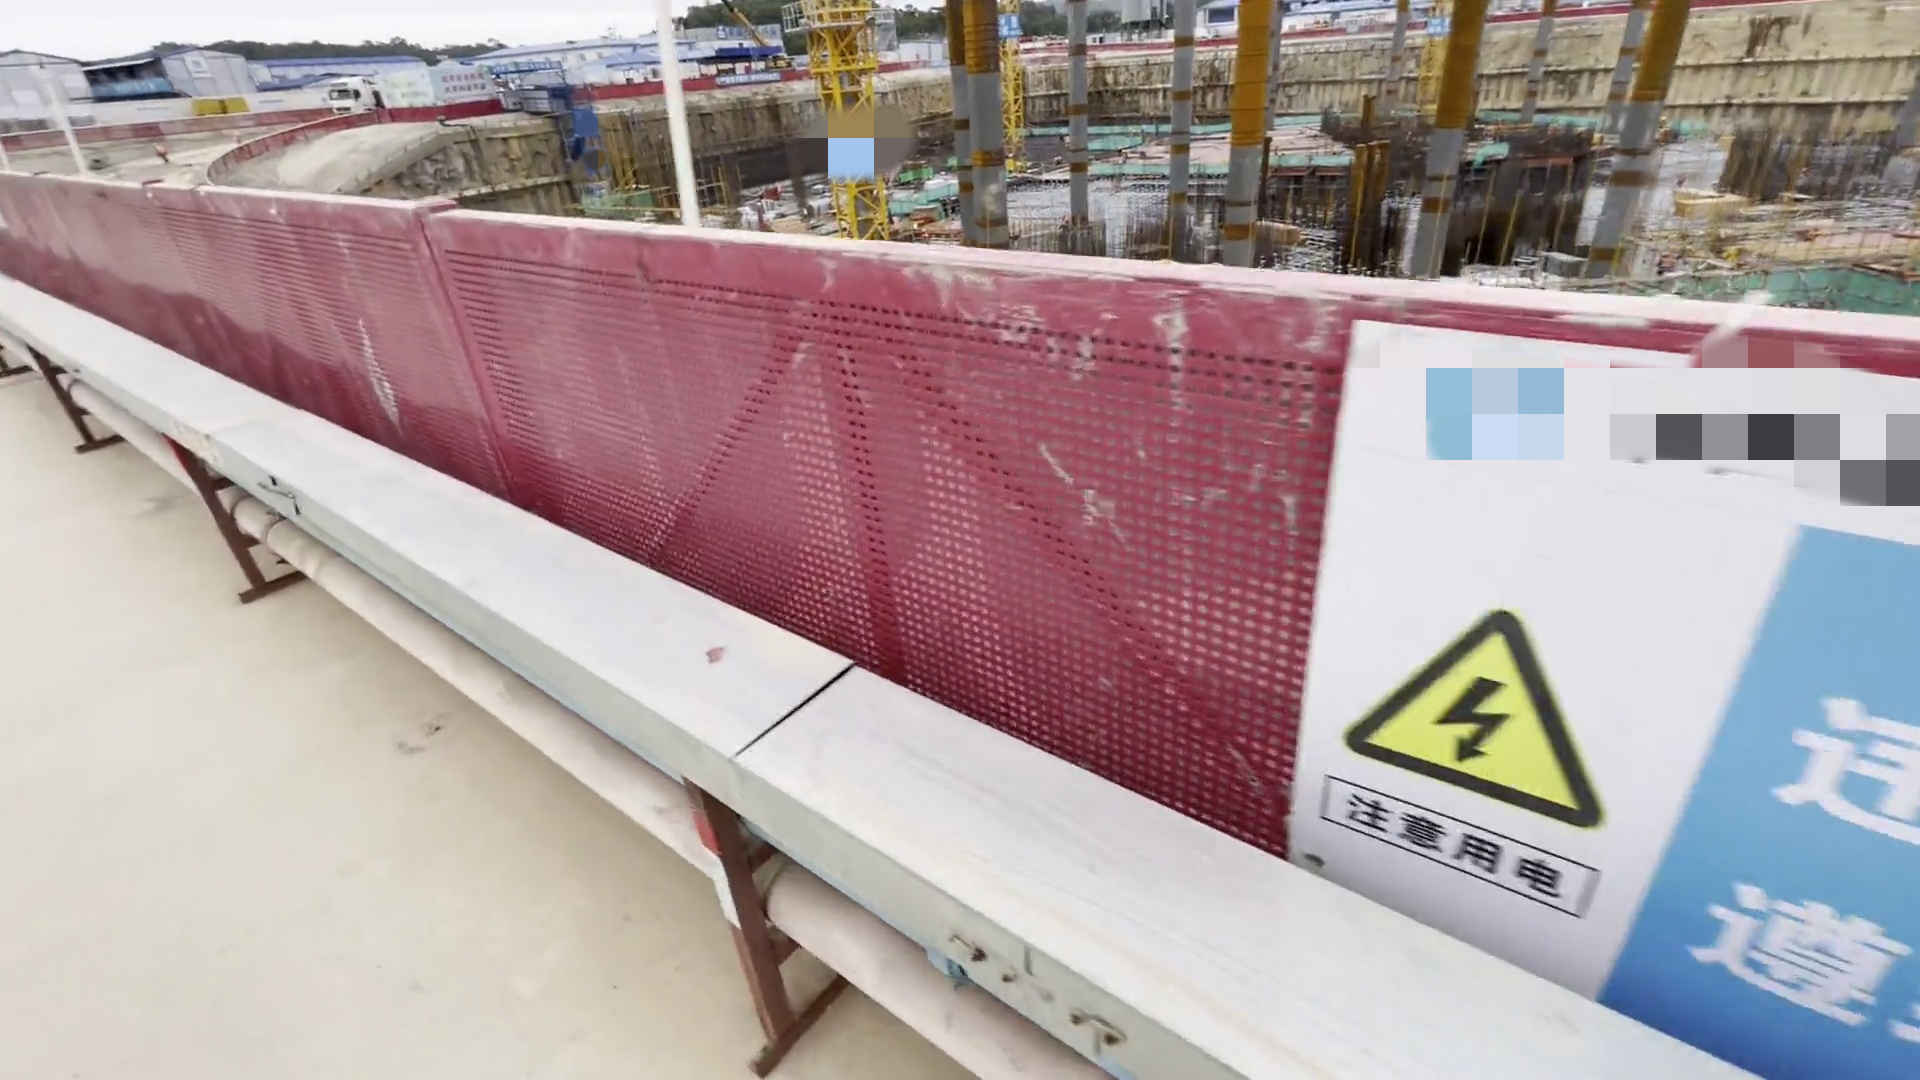fence: (1, 141, 1259, 800)
slogan: (1338, 400, 1909, 1044)
